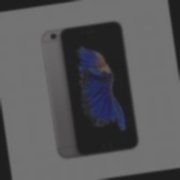iphone: (69, 26, 132, 155)
